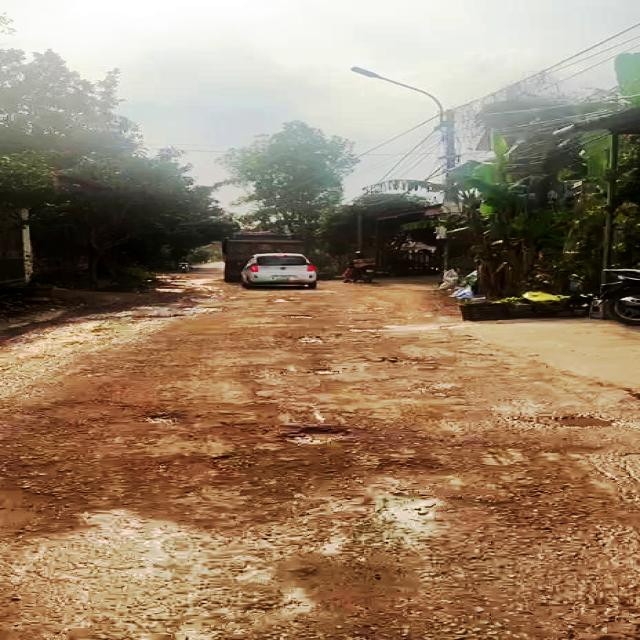pothole: (372, 492, 448, 560), (278, 422, 354, 450), (528, 413, 621, 429), (140, 412, 180, 426), (292, 334, 330, 344), (310, 366, 338, 377), (287, 313, 314, 319)
